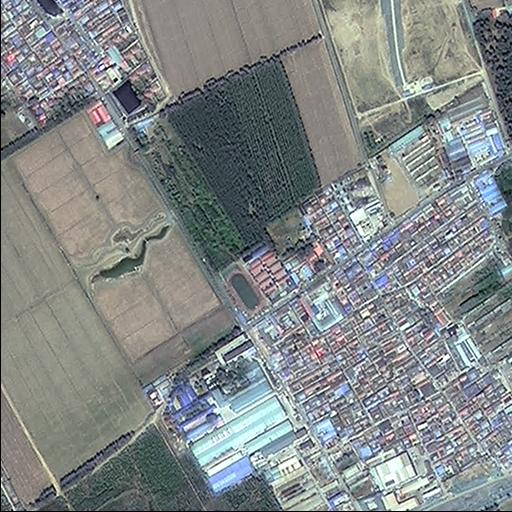school: (221, 243, 300, 324)
